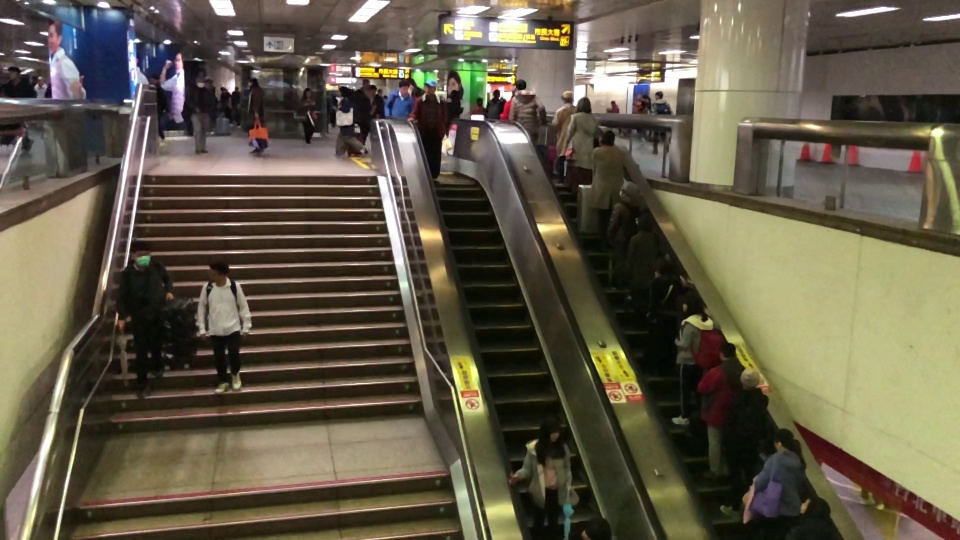person_head: (676, 282, 704, 320), (767, 423, 794, 455), (124, 240, 150, 270), (652, 237, 677, 261), (508, 76, 532, 100), (619, 179, 642, 204), (808, 498, 832, 520), (718, 332, 734, 364), (206, 261, 229, 283), (596, 125, 617, 149), (186, 69, 208, 90), (538, 422, 559, 440), (5, 65, 25, 83), (578, 98, 592, 117), (754, 375, 765, 399), (243, 77, 259, 93), (649, 89, 664, 106), (421, 80, 436, 96), (560, 88, 573, 106), (397, 79, 410, 95), (364, 87, 376, 98), (301, 86, 311, 98)
person_vbox: (117, 239, 174, 402), (192, 260, 255, 404), (503, 422, 580, 534), (719, 370, 785, 490), (663, 282, 714, 427), (755, 423, 813, 528), (590, 123, 629, 246), (696, 331, 742, 431), (409, 82, 451, 179), (2, 64, 40, 151), (647, 236, 690, 312), (177, 71, 216, 154), (608, 177, 644, 265), (234, 77, 272, 154), (572, 96, 602, 188), (549, 85, 574, 186), (645, 90, 677, 152), (801, 496, 844, 537), (502, 82, 539, 125), (292, 86, 319, 144), (381, 78, 414, 120), (356, 87, 377, 144)
